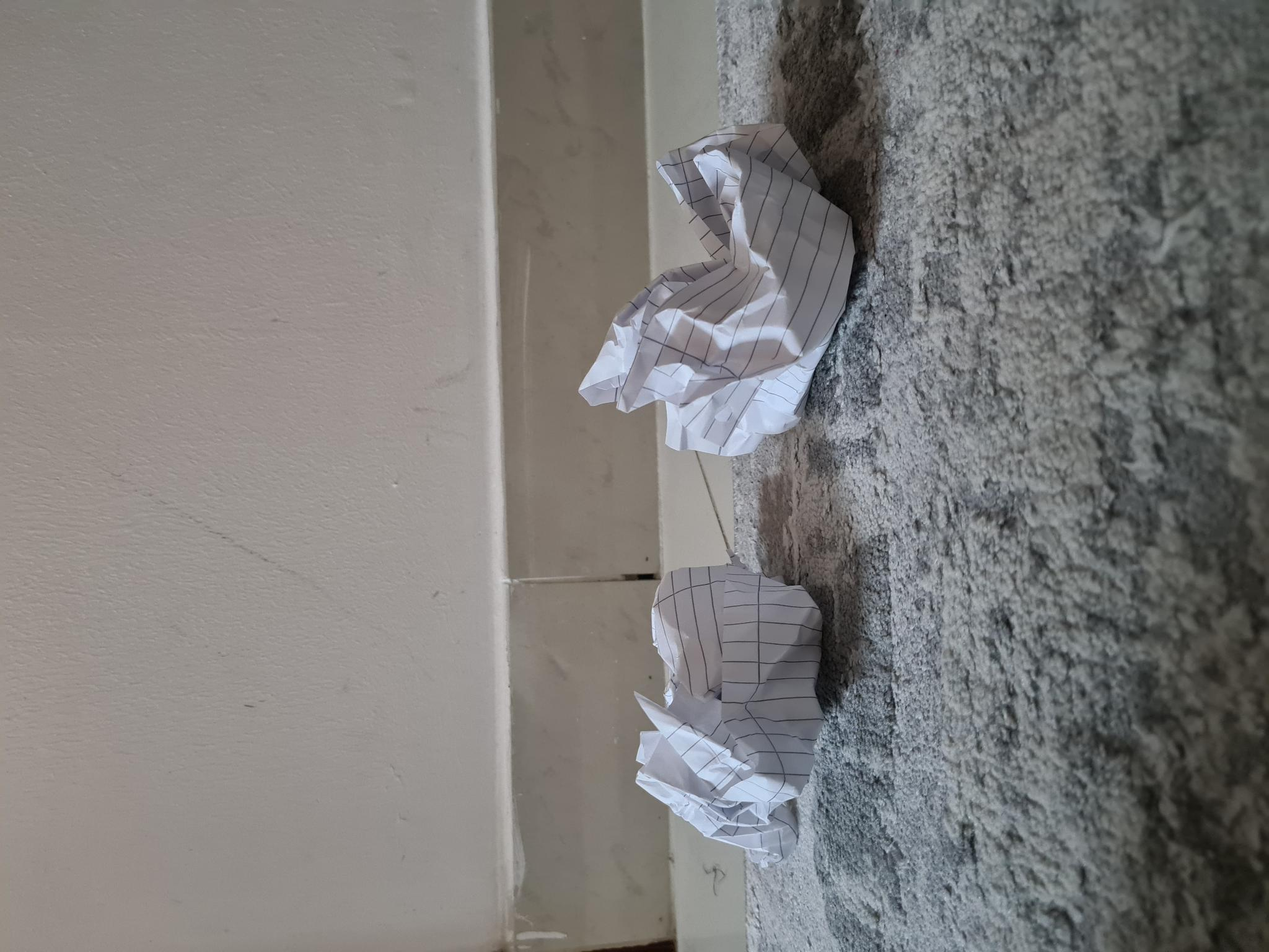Kertas: (490, 583, 823, 875), (95, 640, 390, 820)
